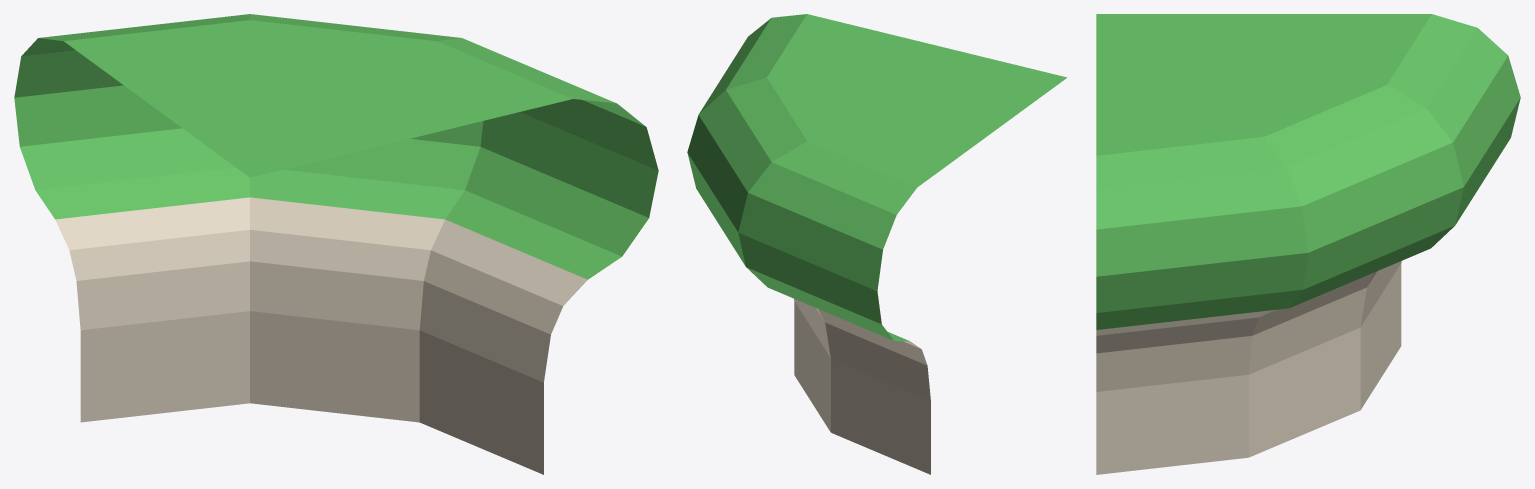
File: Escarpment_Terrain_Corner_Outer_2x2_Top.glb
3 renders of one model, left to right at view 1: azimuth 30°, elevation 25°; view 2: azimuth 150°, elevation 25°; view 3: azimuth 270°, elevation 25°, orthographic. The views are drawn at different scales.
Parts seen in each view (by area): view 1: Escarpment_Terrain_Corner_Outer_2x2_Top; view 2: Escarpment_Terrain_Corner_Outer_2x2_Top; view 3: Escarpment_Terrain_Corner_Outer_2x2_Top.
Part boxes in pixels (<box>): Escarpment_Terrain_Corner_Outer_2x2_Top: <box>14,14,658,474</box>; Escarpment_Terrain_Corner_Outer_2x2_Top: <box>687,14,1067,474</box>; Escarpment_Terrain_Corner_Outer_2x2_Top: <box>1096,14,1520,474</box>.
Size of the model in its own units: 0.7372 by 0.636 by 0.7372.
